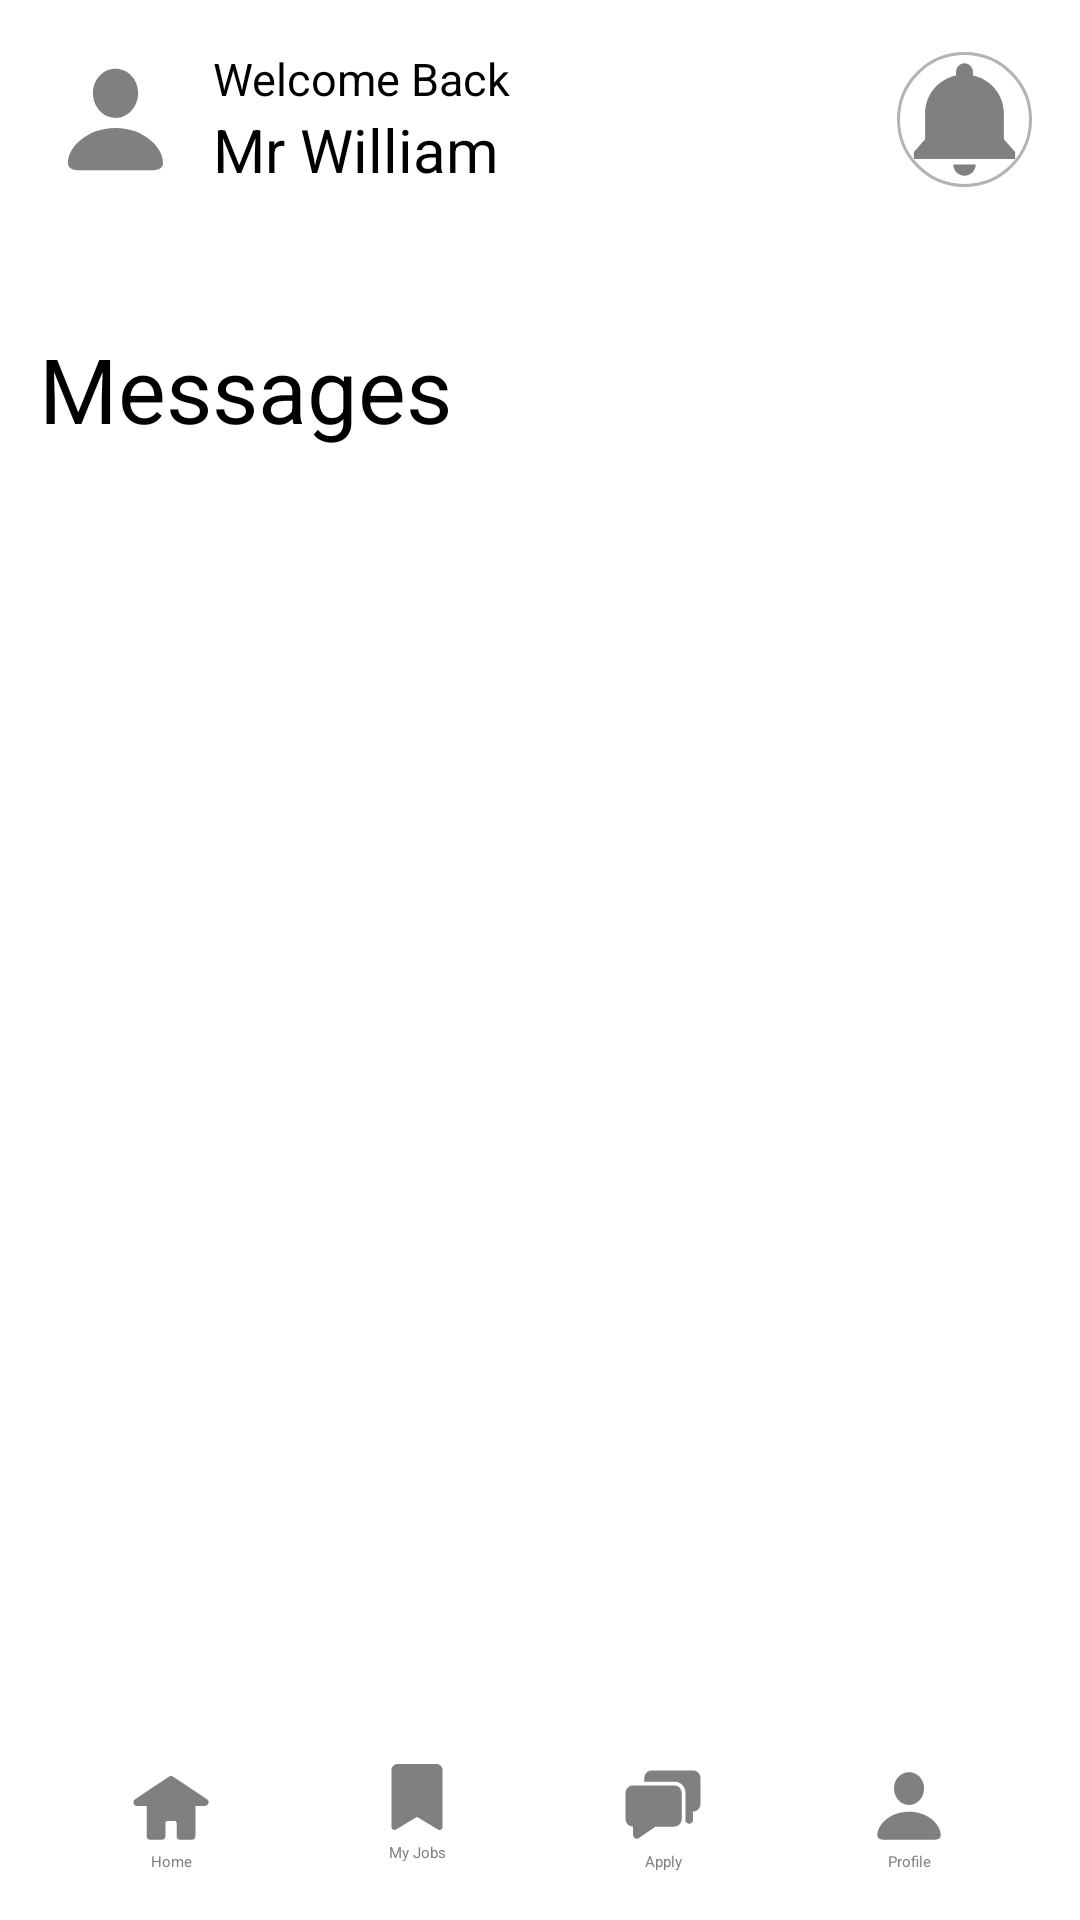

Point at icon controls on the screen. Image size 1080 × 1920, points as point (x, y).
alert: point (964, 119)
person: point (115, 119)
